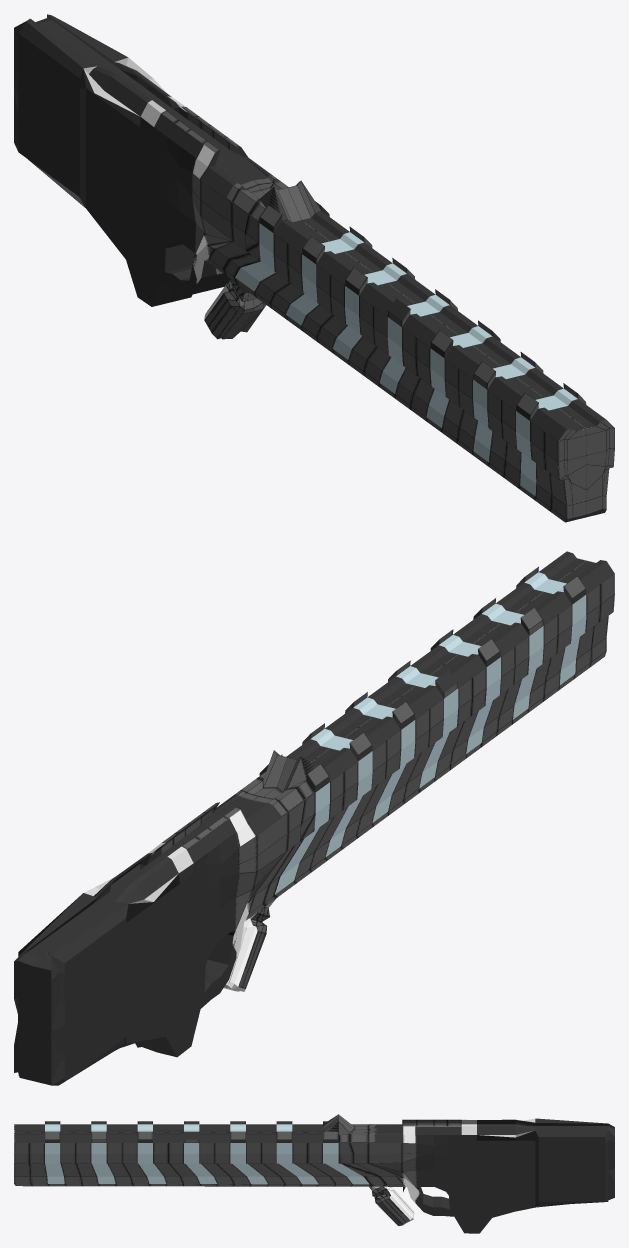
Rendered from weapon.fbx.
3 renders of one model, top to bottom at view 1: azimuth 30°, elevation 25°; view 2: azimuth 150°, elevation 25°; view 3: azimuth 270°, elevation 25°, orthographic. The views are drawn at different scales.
Visible parts, largest first — view 1: Cube.001; view 2: Cube.001; view 3: Cube.001.
Part boxes in pixels (x1,y1,x2,y2): Cube.001: (14,14,614,522); Cube.001: (14,551,614,1085); Cube.001: (14,1114,614,1233).
Bounding box in the file's own units: 8.37 × 27.48 × 135.
4 materials, 2 textured.
